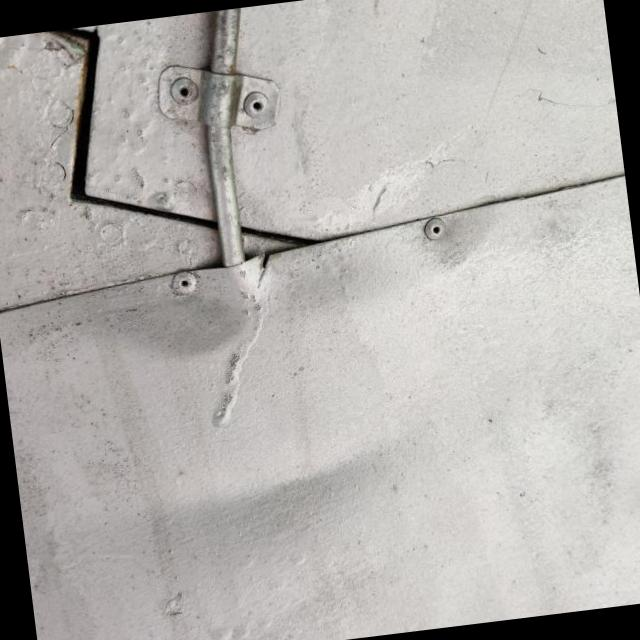Crack: (254, 254, 276, 300)
